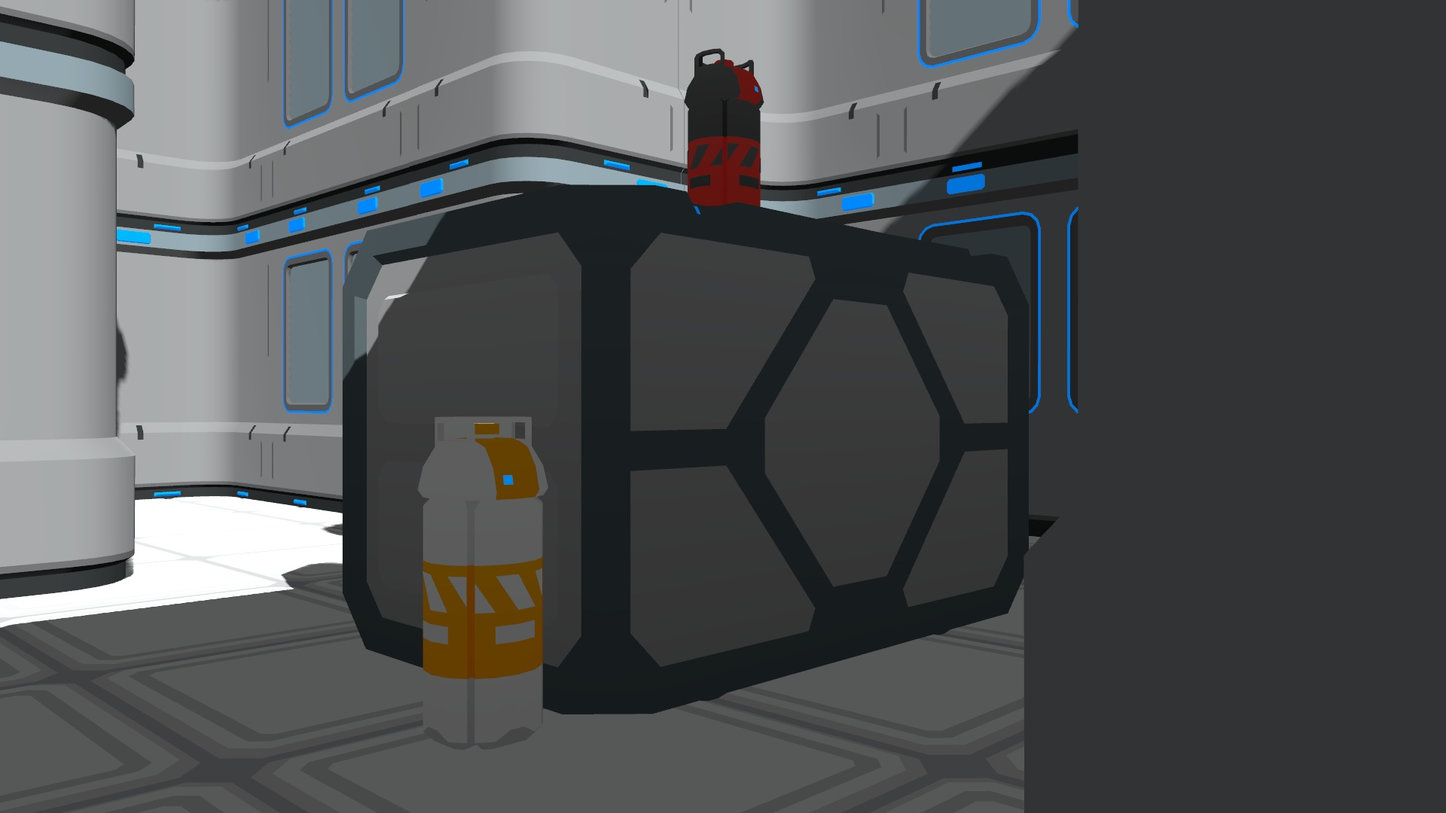red_barrel: (676, 44, 771, 224)
yellow_barrel: (412, 408, 550, 754)
